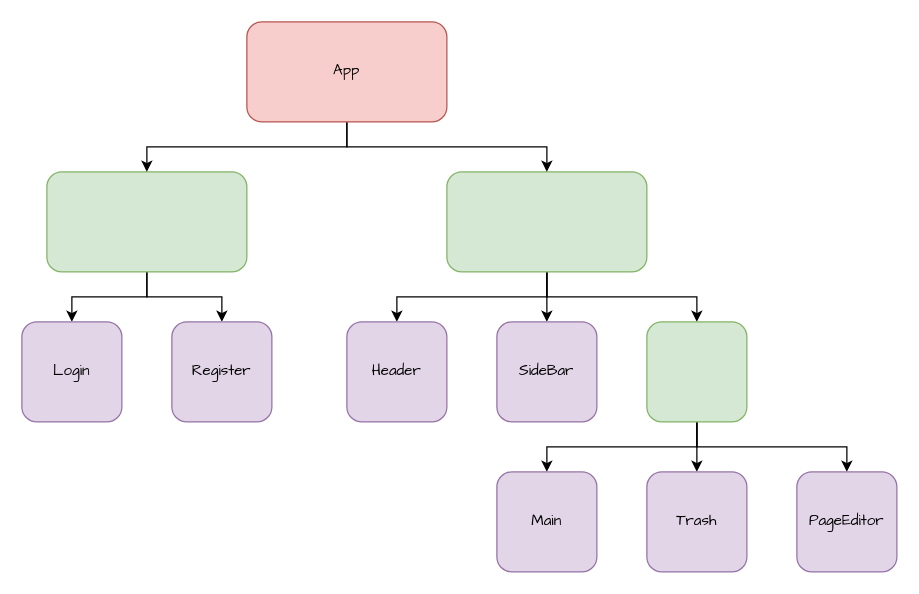
Some shapes in this 919 by 594 pixel diagram are drawn without their labels. Each missing label, with the centre of its shape:
"AuthWrapper" belongs at point 146,221.
"LayoutWrapper" belongs at point 546,221.
"PageWrapper" belongs at point 696,371.
